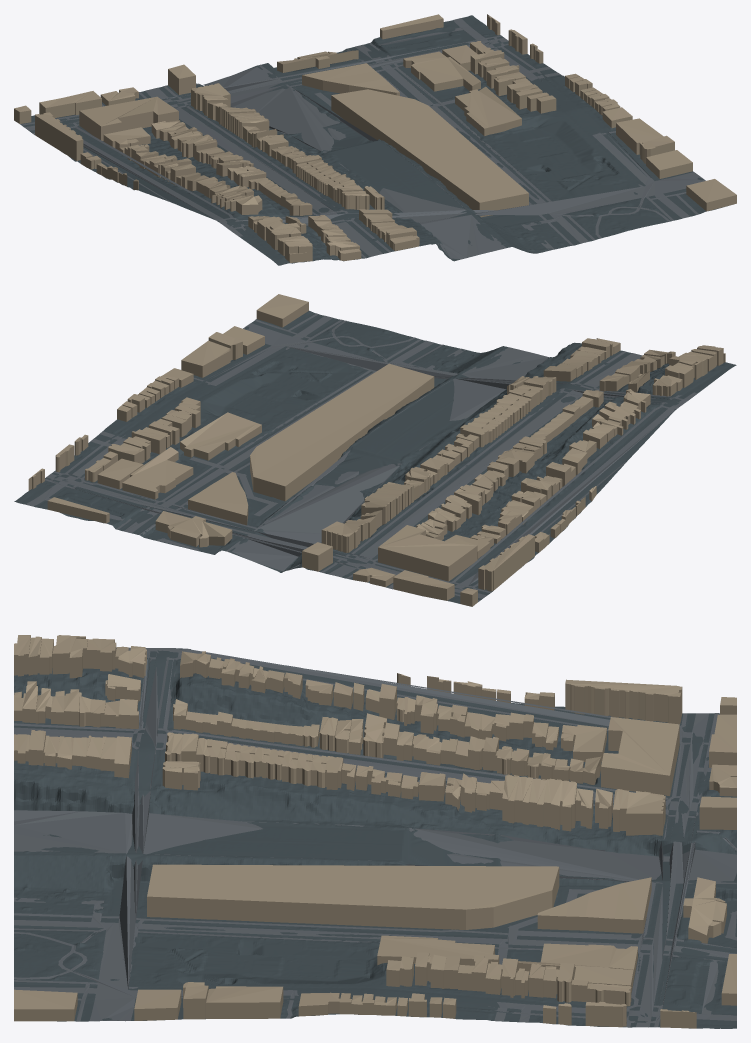
The model's file is epsg26910-1441-10883.lod0.glb.
3 views of the same model, one above another, from view 1: azimuth 30°, elevation 25°; view 2: azimuth 150°, elevation 25°; view 3: azimuth 270°, elevation 25° (orthographic). The views are drawn at different scales.
Visible parts, largest first — view 1: epsg26910-1441-10883-lod0; view 2: epsg26910-1441-10883-lod0; view 3: epsg26910-1441-10883-lod0.
Part boxes in pixels (x1=…): epsg26910-1441-10883-lod0: x1=14, y1=14, x2=736, y2=265; epsg26910-1441-10883-lod0: x1=14, y1=294, x2=736, y2=606; epsg26910-1441-10883-lod0: x1=14, y1=635, x2=736, y2=1028.
Size of the model in its own units: 384 by 61.6 by 384.
